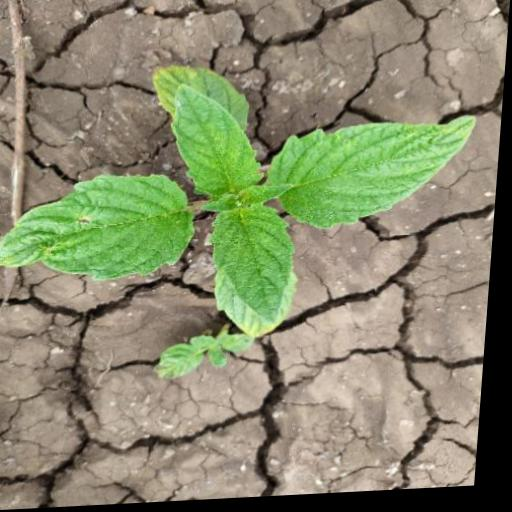crop: (0, 45, 490, 356)
